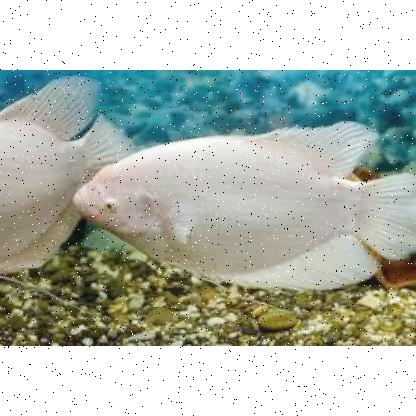gurame: (74, 134, 414, 284)
